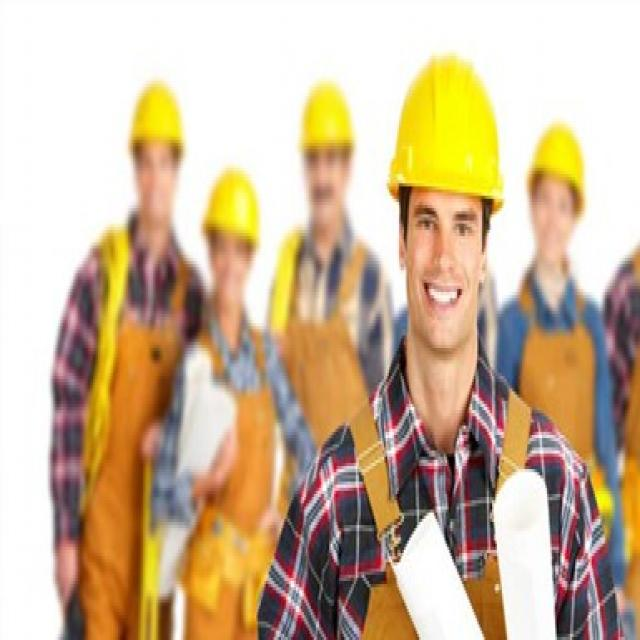Safety-Helmet: (384, 47, 509, 211), (294, 68, 359, 165), (200, 158, 262, 255), (522, 115, 590, 202), (123, 72, 188, 162)
